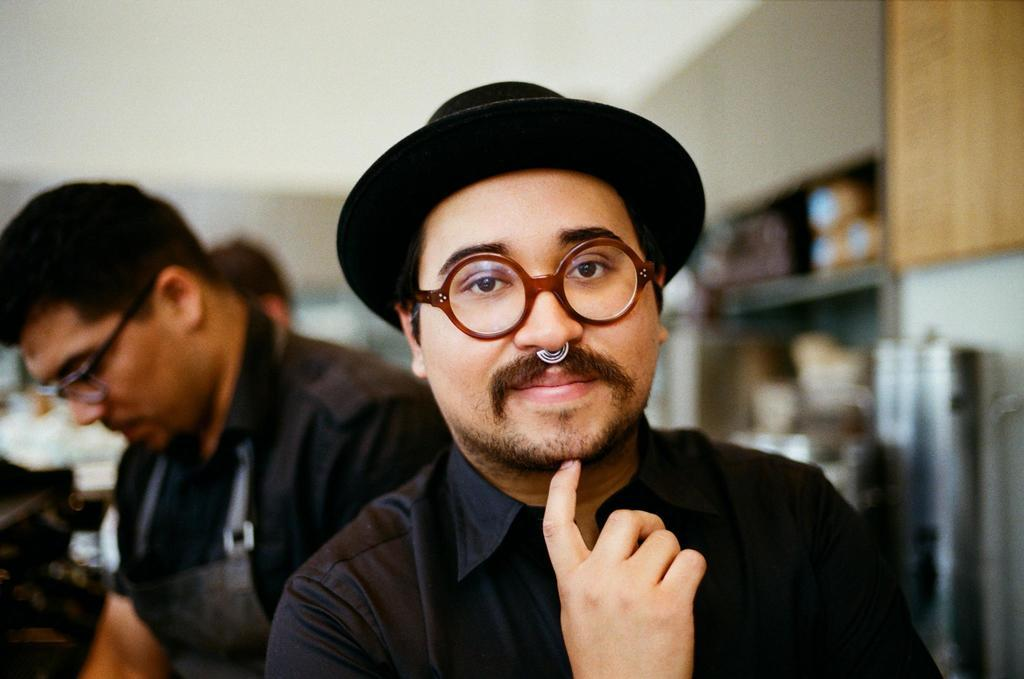Hat: (335, 76, 712, 328)
